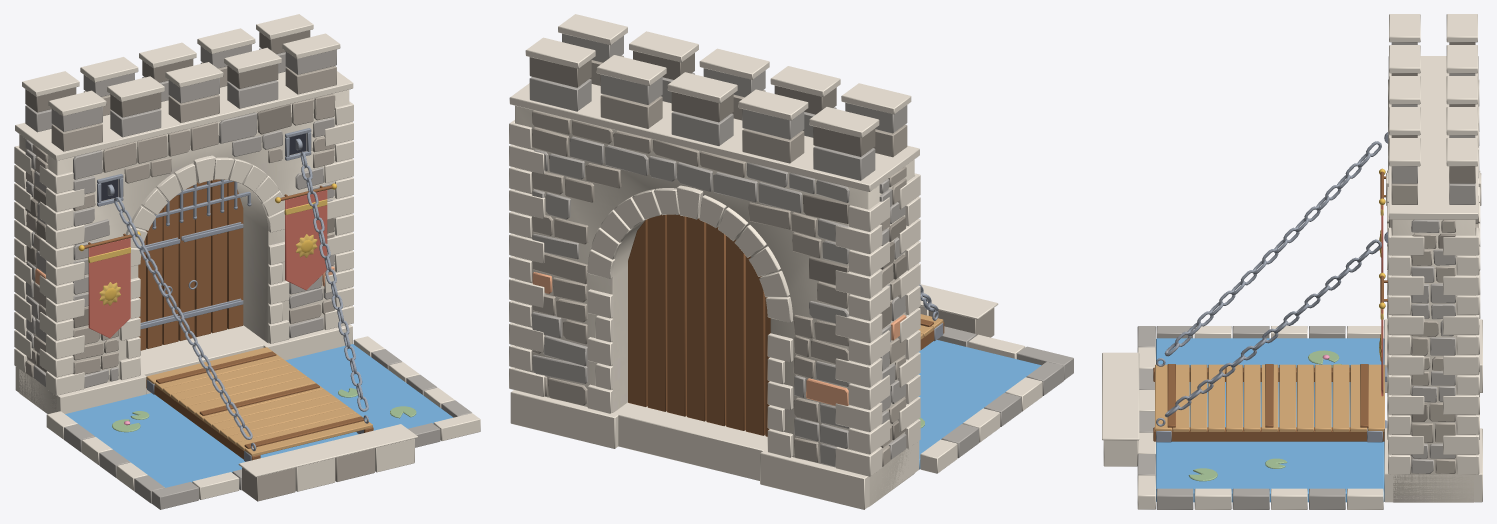
The model's file is drawbridge.glb.
The picture shows the model from 3 angles, left to right: view 1: azimuth 30°, elevation 25°; view 2: azimuth 150°, elevation 25°; view 3: azimuth 270°, elevation 25°; orthographic projection. The views are drawn at different scales.
Parts seen in each view (by area): view 1: drawbridge_details, drawbridge_stonework, drawbridge_bridge, drawbridge_body, drawbridge_chain_left, drawbridge_chain_right; view 2: drawbridge_details, drawbridge_stonework, drawbridge_body, drawbridge_bridge; view 3: drawbridge_details, drawbridge_bridge, drawbridge_stonework, drawbridge_body, drawbridge_chain_left, drawbridge_chain_right.
Boxes of the visible parts, left/top/right/bottom form: drawbridge_details: left=14, top=14, right=480, bottom=509; drawbridge_stonework: left=25, top=93, right=335, bottom=388; drawbridge_bridge: left=146, top=347, right=373, bottom=461; drawbridge_body: left=19, top=89, right=349, bottom=413; drawbridge_chain_left: left=114, top=197, right=252, bottom=439; drawbridge_chain_right: left=300, top=151, right=368, bottom=411; drawbridge_details: left=509, top=14, right=1073, bottom=509; drawbridge_stonework: left=531, top=110, right=906, bottom=466; drawbridge_body: left=515, top=105, right=914, bottom=506; drawbridge_bridge: left=919, top=311, right=944, bottom=349; drawbridge_details: left=1102, top=14, right=1482, bottom=509; drawbridge_bridge: left=1153, top=358, right=1387, bottom=442; drawbridge_stonework: left=1388, top=100, right=1478, bottom=473; drawbridge_body: left=1391, top=219, right=1475, bottom=502; drawbridge_chain_left: left=1164, top=141, right=1381, bottom=356; drawbridge_chain_right: left=1165, top=239, right=1381, bottom=417.
Bounding box in the file's own units: 7.7 × 7.08 × 7.27.
16 materials, 1 textured.
